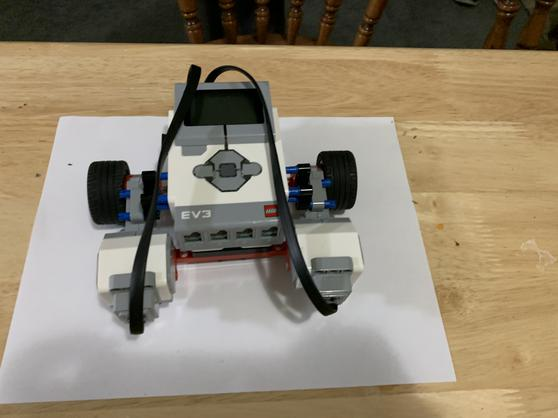robot: (84, 56, 364, 343)
